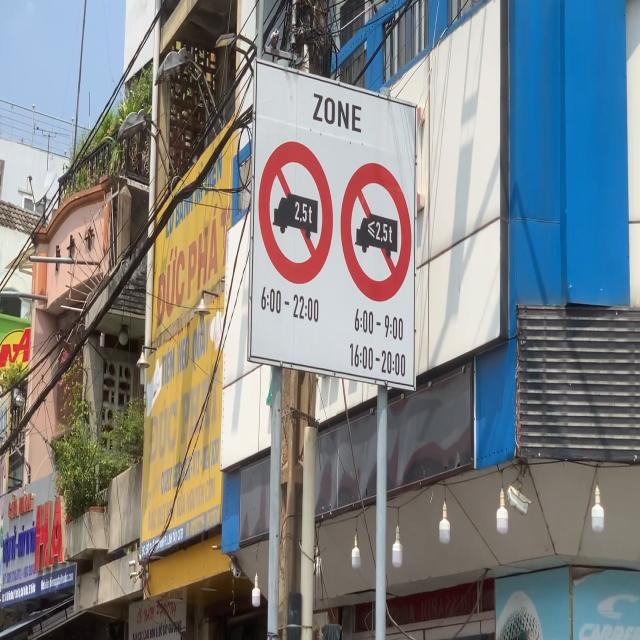Cam con lai: (257, 140, 334, 286), (340, 161, 413, 304)
